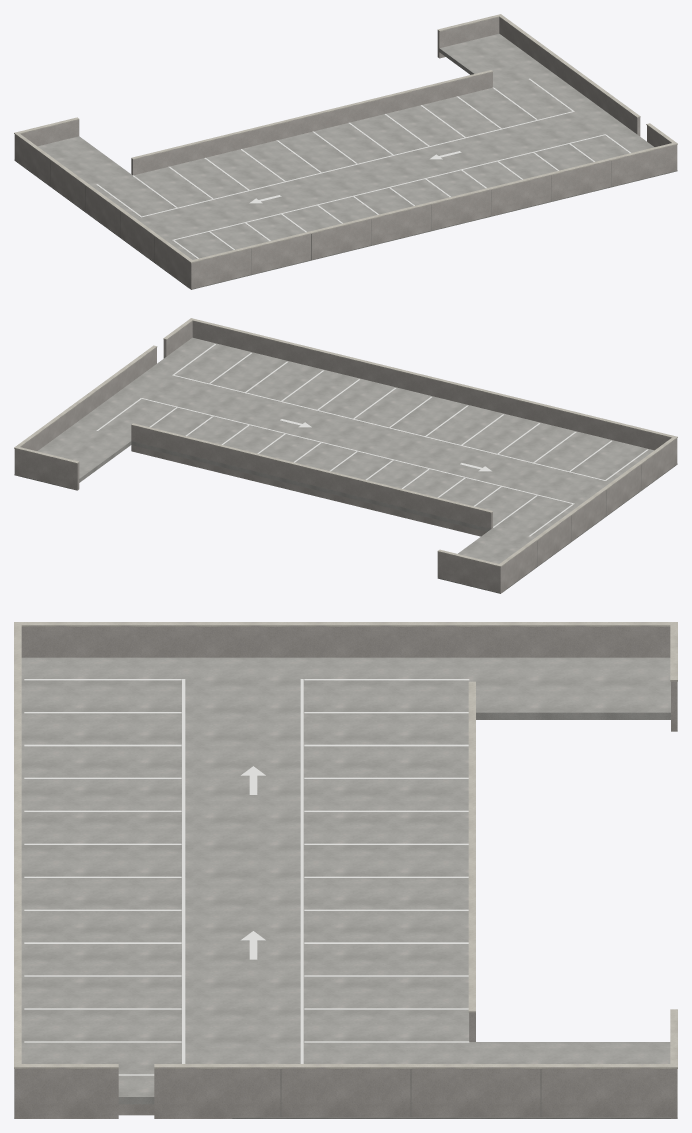
Rendered from deck.glb.
3 views of the same model, one above another, from view 1: azimuth 30°, elevation 25°; view 2: azimuth 150°, elevation 25°; view 3: azimuth 270°, elevation 25° (orthographic). The views are drawn at different scales.
Visible parts, largest first — view 1: deck_conc_s, deck_concrete, deck_coping, deck_paint_w, deck_conc_d; view 2: deck_conc_s, deck_concrete, deck_coping, deck_paint_w, deck_conc_d; view 3: deck_conc_s, deck_concrete, deck_coping, deck_paint_w, deck_conc_d.
Part boxes in pixels (x1,y1,x2,y2): deck_conc_s: (37,33,654,259); deck_concrete: (14,17,677,289); deck_coping: (14,14,677,263); deck_paint_w: (96,78,630,258); deck_conc_d: (14,160,677,289); deck_conc_s: (37,337,654,563); deck_concrete: (14,321,677,593); deck_coping: (14,318,677,567); deck_paint_w: (96,344,648,536); deck_conc_d: (14,464,677,593); deck_conc_s: (21,657,670,1104); deck_concrete: (14,627,677,1118); deck_coping: (14,622,677,1068); deck_paint_w: (24,679,469,1075); deck_conc_d: (14,682,677,1118).
Bounding box in the file's own units: 32.44 × 1.76 × 20.44.
10 materials, 4 textured.
